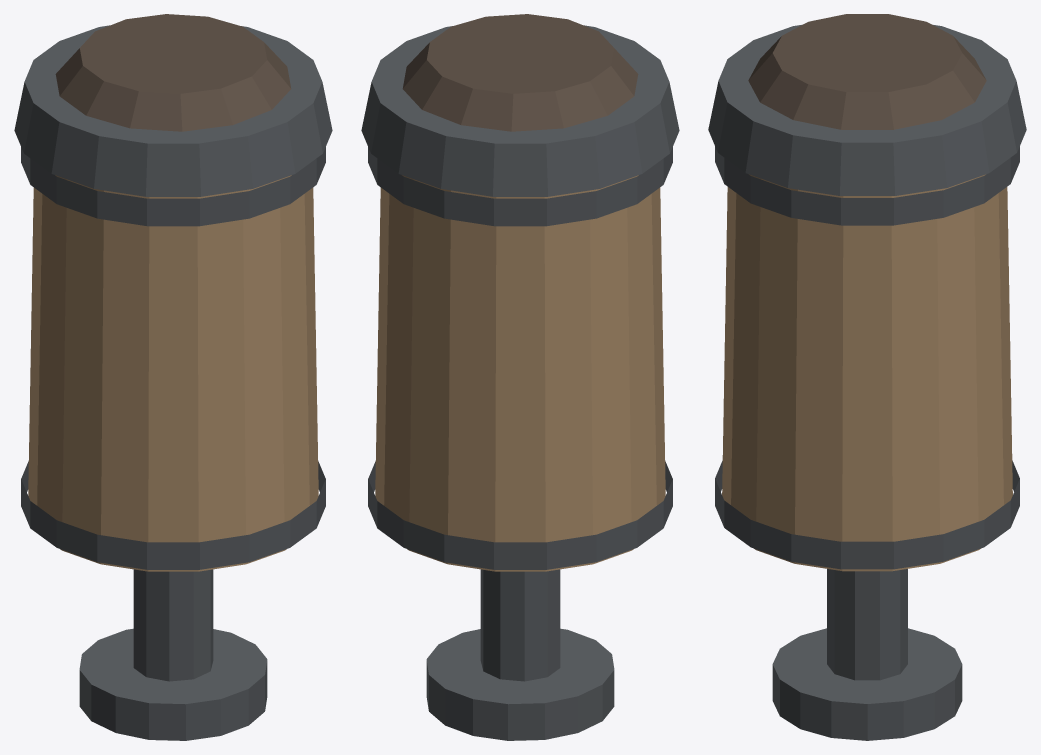
Rendered from trash_bin.glb.
The picture shows the model from 3 angles, left to right: view 1: azimuth 30°, elevation 25°; view 2: azimuth 150°, elevation 25°; view 3: azimuth 270°, elevation 25°; orthographic projection.
Visible parts, largest first — view 1: trash_bin; view 2: trash_bin; view 3: trash_bin.
Part boxes in pixels (x1=…): trash_bin: x1=14, y1=14, x2=332, y2=740; trash_bin: x1=361, y1=14, x2=679, y2=740; trash_bin: x1=708, y1=14, x2=1026, y2=740.
Size of the model in its own units: 0.4629 by 1.05 by 0.47.
